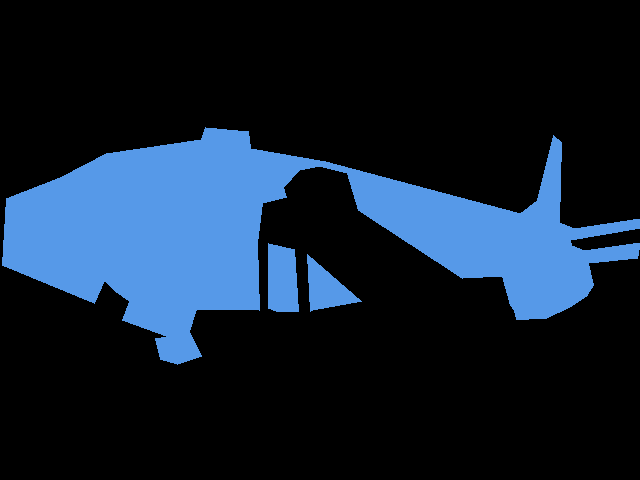Airplane: (2, 127, 640, 365)
